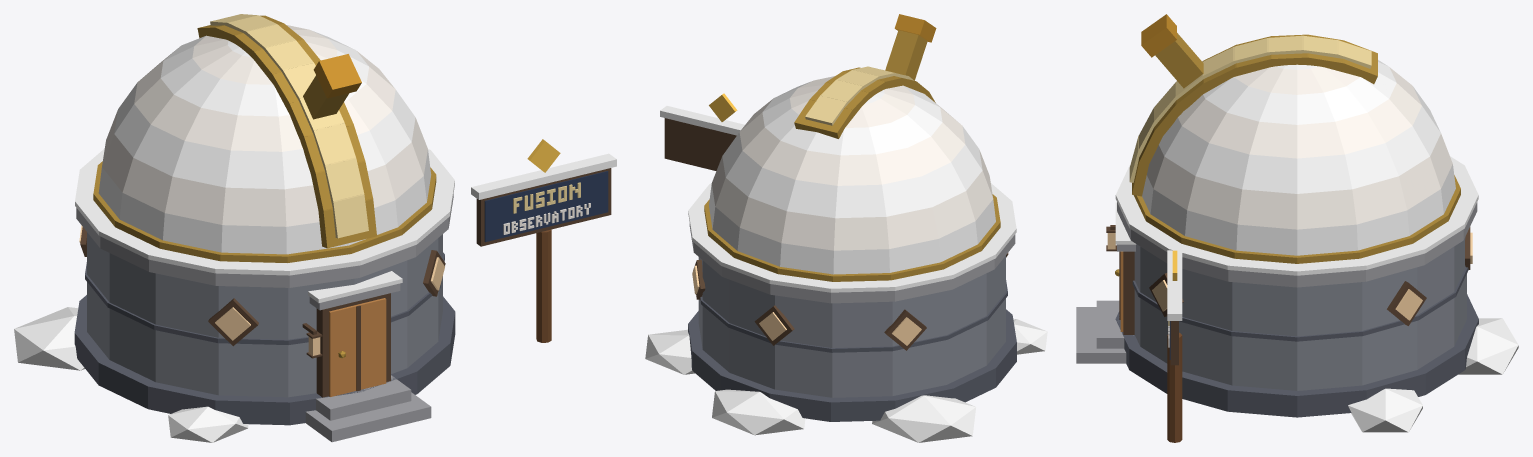
The model's file is CatCafe_Camp_Snowy_FusionObservatory.glb.
3 views of the same model, side by side, from view 1: azimuth 30°, elevation 25°; view 2: azimuth 150°, elevation 25°; view 3: azimuth 270°, elevation 25° (orthographic). The views are drawn at different scales.
Visible parts, largest first — view 1: CatCafe_Camp_Snowy_FusionObservatory, CatCafe_Camp_Snowy_FusionObservatory_Slit_Glow, CatCafe_Camp_Snowy_FusionObservatory_Bulb; view 2: CatCafe_Camp_Snowy_FusionObservatory, CatCafe_Camp_Snowy_FusionObservatory_Slit_Glow, CatCafe_Camp_Snowy_FusionObservatory_Bulb; view 3: CatCafe_Camp_Snowy_FusionObservatory, CatCafe_Camp_Snowy_FusionObservatory_Slit_Glow, CatCafe_Camp_Snowy_FusionObservatory_Bulb.
Part boxes in pixels (x1,y1,x2,y2): CatCafe_Camp_Snowy_FusionObservatory: (14, 15, 616, 442); CatCafe_Camp_Snowy_FusionObservatory_Slit_Glow: (210, 14, 368, 238); CatCafe_Camp_Snowy_FusionObservatory_Bulb: (79, 225, 444, 355); CatCafe_Camp_Snowy_FusionObservatory: (645, 14, 1047, 442); CatCafe_Camp_Snowy_FusionObservatory_Slit_Glow: (805, 66, 913, 125); CatCafe_Camp_Snowy_FusionObservatory_Bulb: (692, 265, 921, 345); CatCafe_Camp_Snowy_FusionObservatory: (1076, 14, 1518, 442); CatCafe_Camp_Snowy_FusionObservatory_Slit_Glow: (1129, 35, 1371, 182); CatCafe_Camp_Snowy_FusionObservatory_Bulb: (1107, 232, 1472, 320).
Bounding box in the file's own units: 15.33 × 11.09 × 13.02.
1 material, 1 textured.
